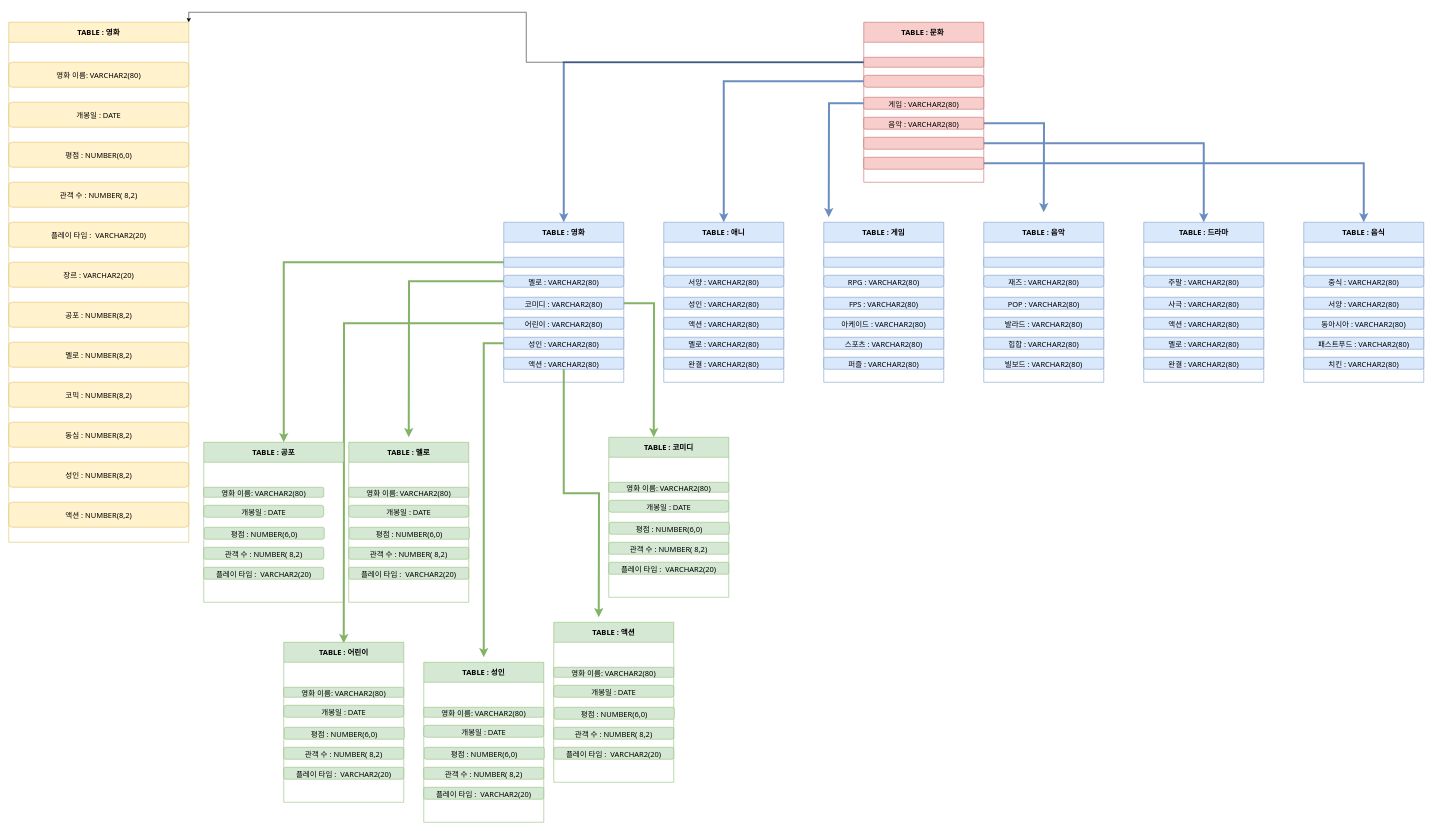
The diagram is 1433 pixels wide and 831 high, and some of its shapes have lost their labels. The centre of each missing label's shape, as x and y in pixels:
공포 : VARCHAR2(80): the point at 563,262
동양 : VARCHAR2(80): the point at 723,262
드라마 : VARCHAR2(80): the point at 923,143
모바일 : VARCHAR2(80): the point at 883,262
애니 : VARCHAR2(80): the point at 923,81
영화 : VARCHAR2(80): the point at 923,62
음식 : VARCHAR2(80): the point at 923,163
클래식 : VARCHAR2(80): the point at 1043,262
평일 : VARCHAR2(80): the point at 1203,262
한식 : VARCHAR2(80): the point at 1363,262
